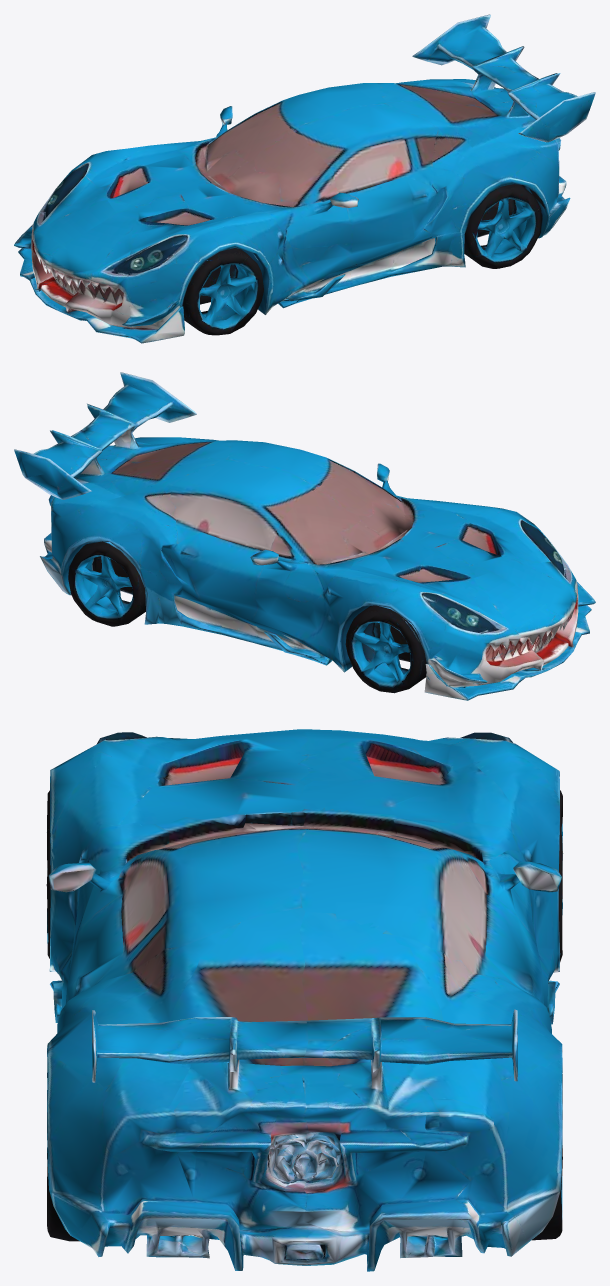
Rendered from ur_warp.glb.
3 views of the same model, one above another, from view 1: azimuth 30°, elevation 25°; view 2: azimuth 150°, elevation 25°; view 3: azimuth 270°, elevation 25° (orthographic). The views are drawn at different scales.
Bounding box in the file's own units: 1.9 × 0.5304 × 0.8539.
1 material, 1 textured.
